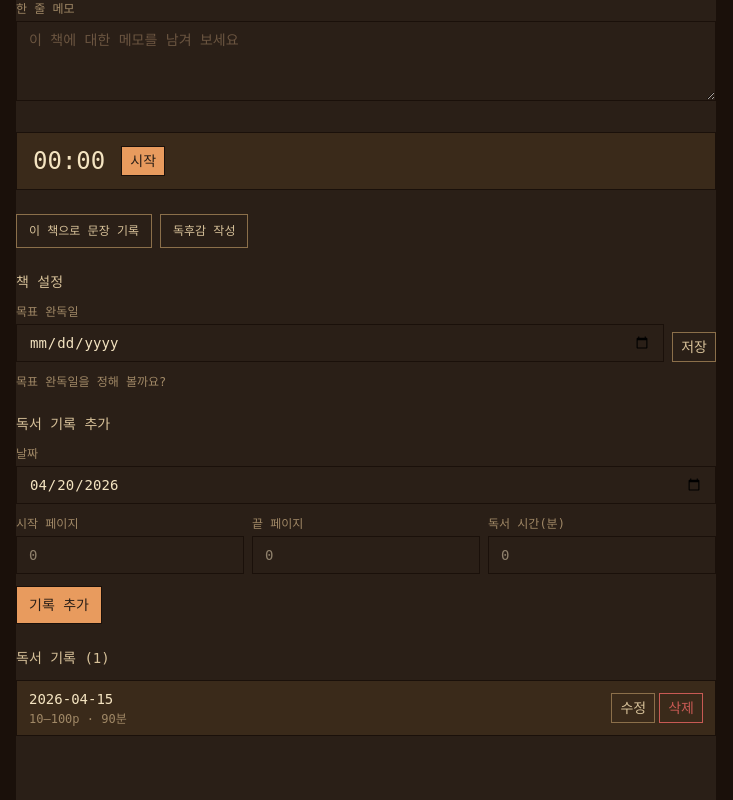
Test case: ReadingSessionForm › 수정 모드: 세션 수정 버튼 클릭 시 폼에 값이 프리필된다
(page scrolled)
Click the button "수정": click(633, 708) [612,693,655,723]
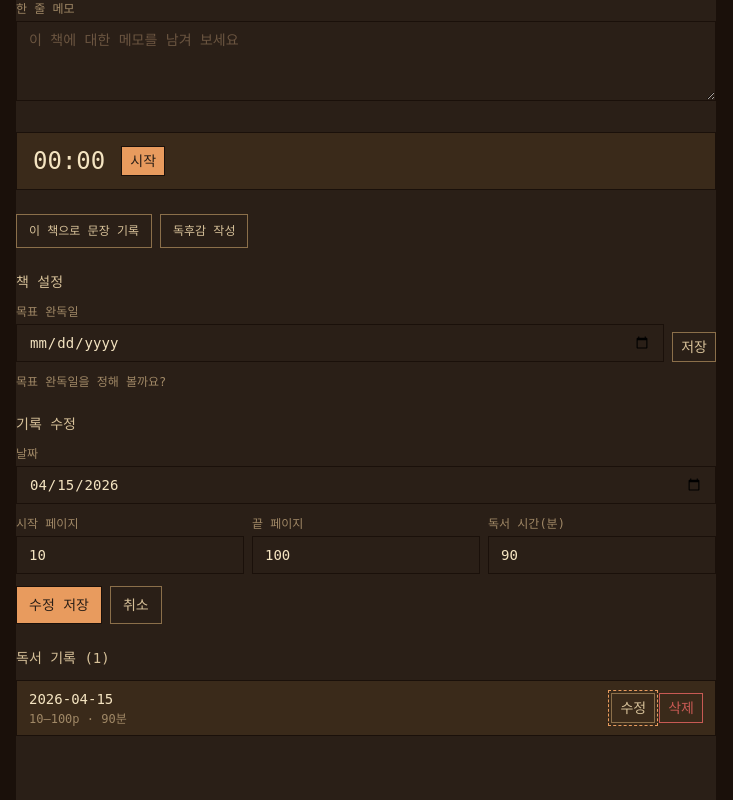
Check: the date field labelled "날짜" holds "2026-04-15", box [16,466,716,504]
Check: the number field labelled "시작 페이지" holds "10", box [16,536,244,574]
Check: the number field labelled "끝 페이지" holds "100", box [252,536,480,574]
